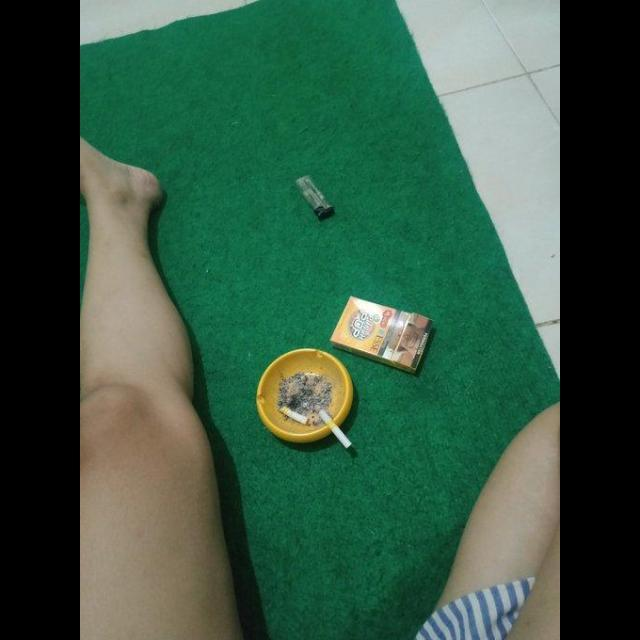rokok: (317, 400, 355, 450), (278, 404, 312, 428)
